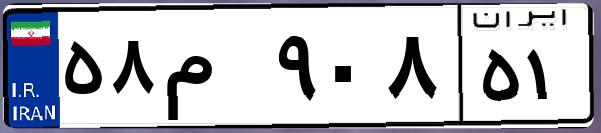0: (330, 28, 385, 110)
1: (525, 38, 570, 115)
5: (57, 26, 110, 100), (475, 38, 525, 113)
8: (385, 28, 445, 110), (110, 28, 158, 98)
9: (270, 28, 330, 110)
م: (158, 20, 270, 120)
